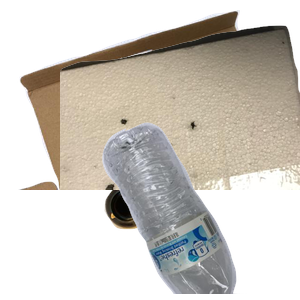cardboard: (16, 10, 256, 190)
glass: (102, 181, 246, 300)
plastic: (100, 120, 300, 300)
trash: (60, 23, 300, 203)
